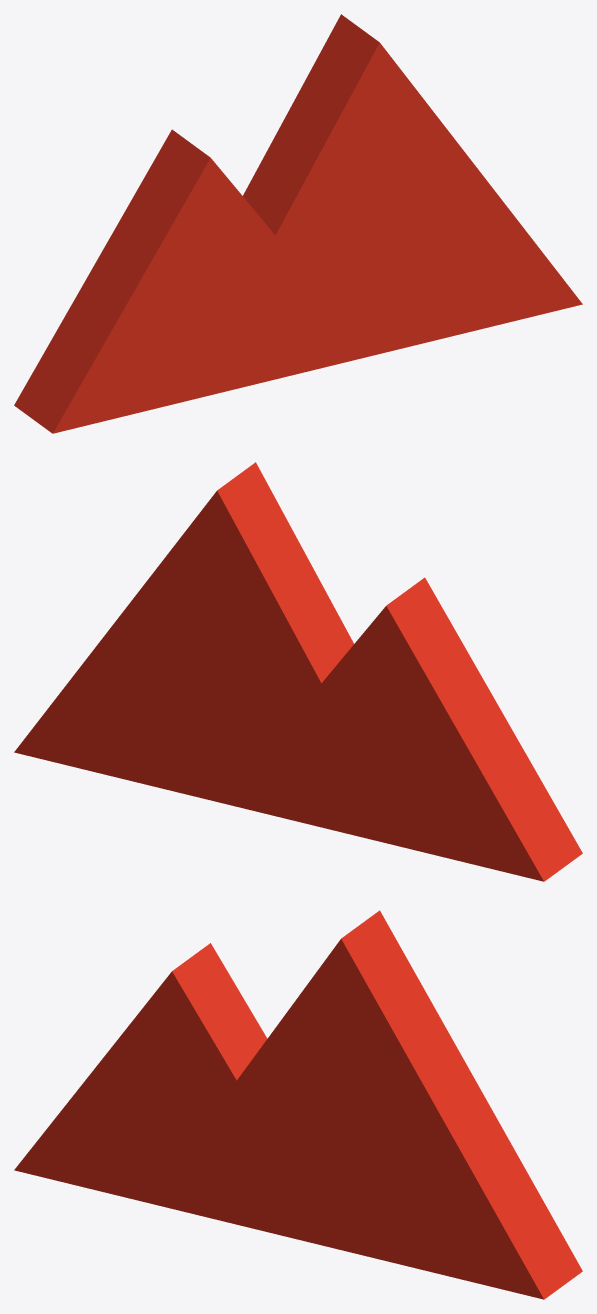
File: Icon_Mountain.fbx
3 views of the same model, one above another, from view 1: azimuth 30°, elevation 25°; view 2: azimuth 150°, elevation 25°; view 3: azimuth 330°, elevation 25° (orthographic).
Visible parts, largest first — view 1: Icon_Mountain; view 2: Icon_Mountain; view 3: Icon_Mountain.
Boxes of the visible parts, x1,y1,x2,y2 form: Icon_Mountain: (14, 14, 582, 433); Icon_Mountain: (14, 462, 582, 881); Icon_Mountain: (14, 910, 582, 1299).
Bounding box in the file's own units: 95.37 × 53.54 × 12.06.
